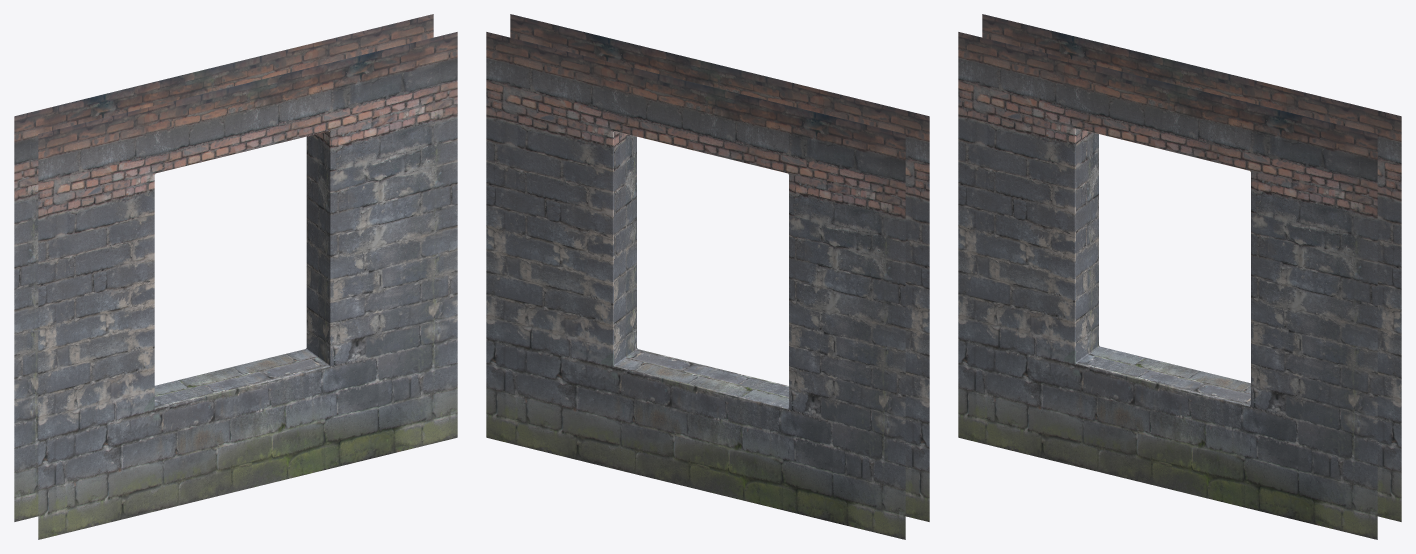
File: sm_Wall_06_14.fbx
3 renders of one model, left to right at view 1: azimuth 30°, elevation 25°; view 2: azimuth 150°, elevation 25°; view 3: azimuth 330°, elevation 25°, orthographic.
Visible parts, largest first — view 1: sm_Wall_06_14_LOD0; view 2: sm_Wall_06_14_LOD0; view 3: sm_Wall_06_14_LOD0.
Boxes of the visible parts, x1,y1,x2,y2 form: sm_Wall_06_14_LOD0: [14, 14, 457, 539]; sm_Wall_06_14_LOD0: [486, 14, 929, 539]; sm_Wall_06_14_LOD0: [958, 14, 1401, 539].
Bounding box in the file's own units: 40.31 × 400 × 370.
